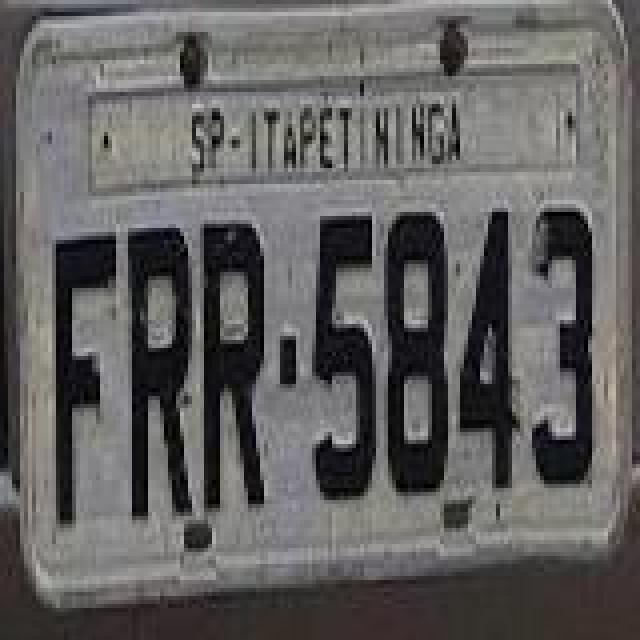3: (526, 206, 594, 490)
4: (456, 210, 512, 494)
5: (312, 214, 376, 506)
8: (384, 210, 448, 502)
F: (50, 230, 118, 530)
R: (126, 226, 194, 526), (198, 218, 266, 518)
